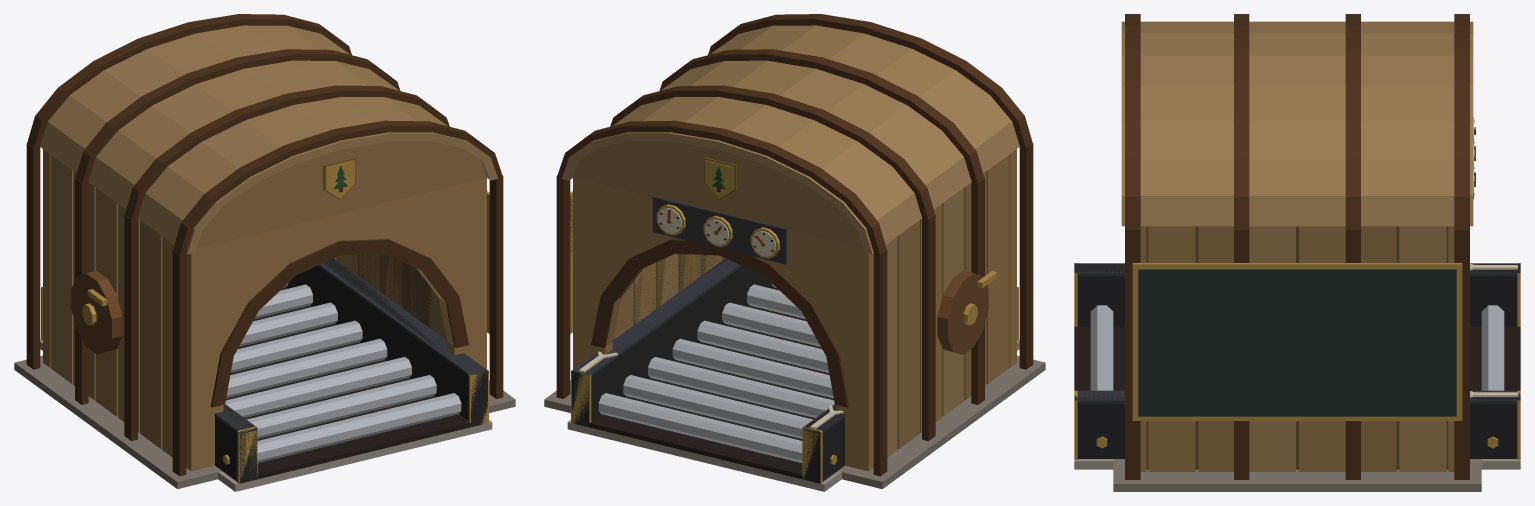
File: PlanerHand.glb
3 renders of one model, left to right at view 1: azimuth 30°, elevation 25°; view 2: azimuth 150°, elevation 25°; view 3: azimuth 270°, elevation 25°, orthographic. The views are drawn at different scales.
Parts seen in each view (by area): view 1: Body, Rollers, Belt; view 2: Body, Rollers, Belt; view 3: Body, Rollers, Belt, ArrowDecal.
Part boxes in pixels (box(x1,y1,x2,y2)): Body: box(14, 14, 515, 491); Rollers: box(223, 283, 461, 464); Belt: box(226, 287, 470, 479); Body: box(544, 14, 1045, 491); Rollers: box(598, 283, 836, 464); Belt: box(589, 287, 833, 479); Body: box(1074, 14, 1520, 491); Rollers: box(1090, 305, 1504, 448); Belt: box(1074, 326, 1520, 390); ArrowDecal: box(1470, 263, 1517, 397).
Bounding box in the file's own units: 8.21 × 6.92 × 8.
